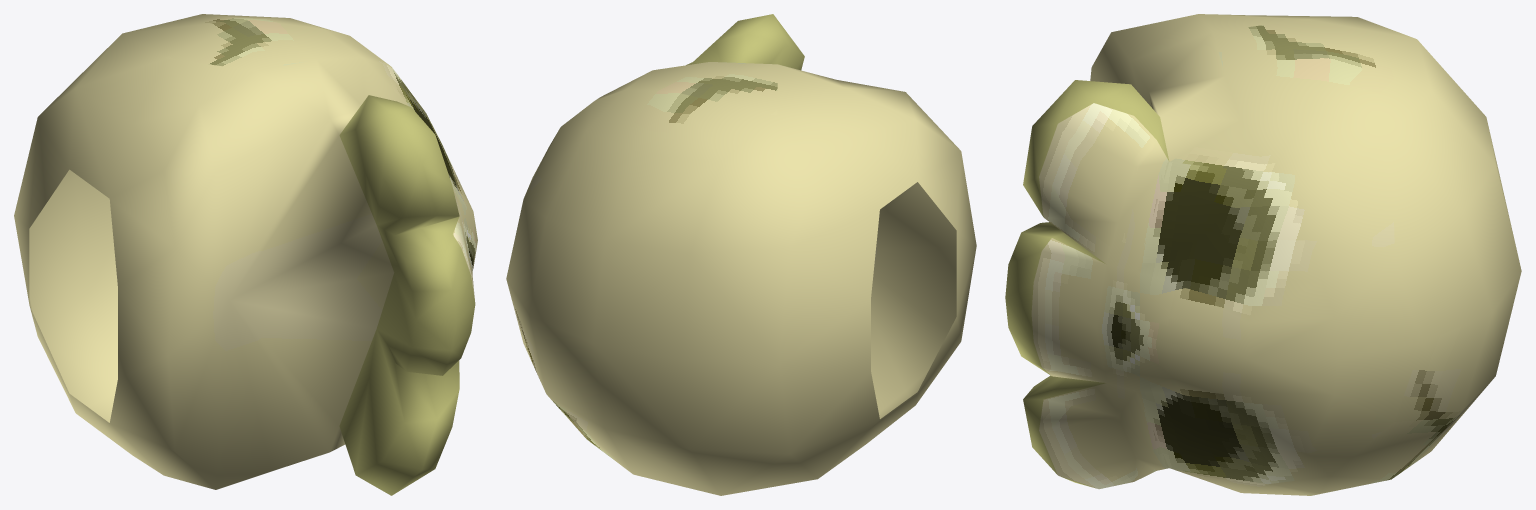
Rendered from hlmt_hlwn_skelton.dae.
3 renders of one model, left to right at view 1: azimuth 30°, elevation 25°; view 2: azimuth 150°, elevation 25°; view 3: azimuth 270°, elevation 25°, orthographic. The views are drawn at different scales.
Parts seen in each view (by area): view 1: hlmt_hlwn_skelton; view 2: hlmt_hlwn_skelton; view 3: hlmt_hlwn_skelton.
Part boxes in pixels (x1,y1,x2,y2): hlmt_hlwn_skelton: (14, 14, 477, 495); hlmt_hlwn_skelton: (506, 14, 976, 495); hlmt_hlwn_skelton: (1005, 14, 1521, 495).
Size of the model in its own units: 22.74 by 22.81 by 25.01.
1 material, 1 textured.
